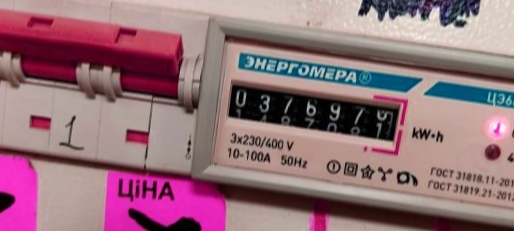0: (232, 87, 248, 108)
1: (371, 120, 385, 139)
3: (256, 92, 271, 113)
6: (303, 95, 318, 117)
7: (350, 103, 365, 126), (279, 93, 294, 115)
9: (326, 100, 341, 122)
screen: (216, 70, 412, 157)
